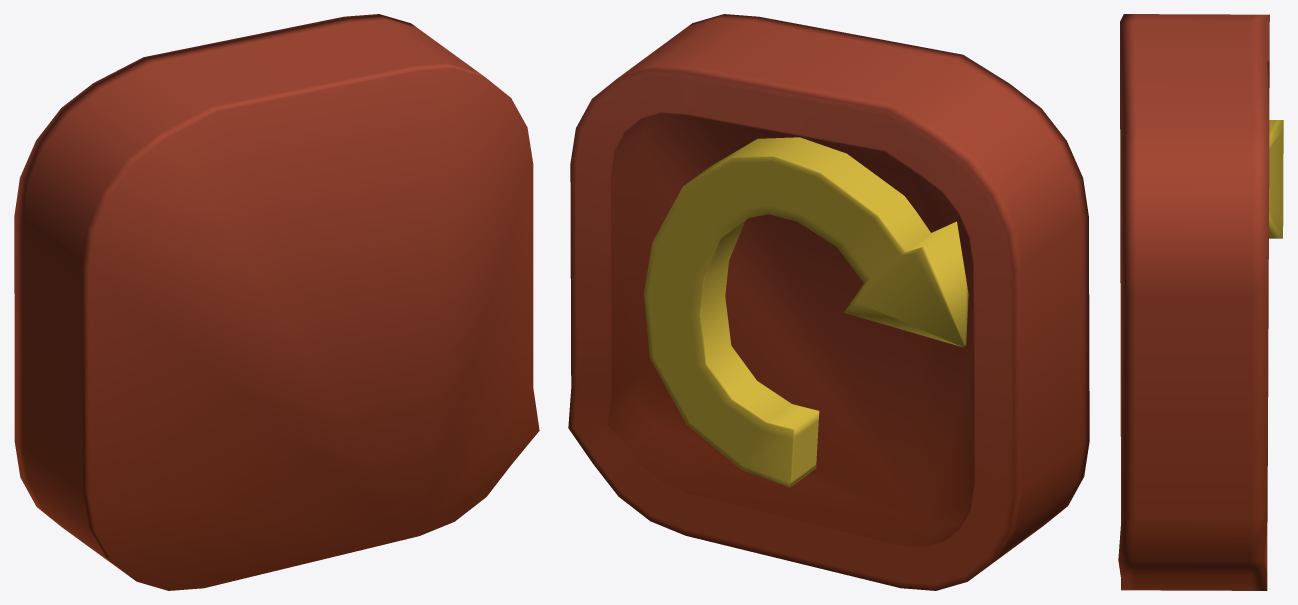
File: спины.fbx
3 views of the same model, side by side, from view 1: azimuth 30°, elevation 25°; view 2: azimuth 150°, elevation 25°; view 3: azimuth 270°, elevation 25° (orthographic). The views are drawn at different scales.
Parts seen in each view (by area): view 1: Cube.005; view 2: Cube.005; view 3: Cube.005.
Part boxes in pixels (left/top/right/bottom): Cube.005: left=14, top=14, right=539, bottom=590; Cube.005: left=568, top=14, right=1089, bottom=590; Cube.005: left=1118, top=14, right=1283, bottom=590.
Size of the model in its own units: 202 by 205 by 66.32.
